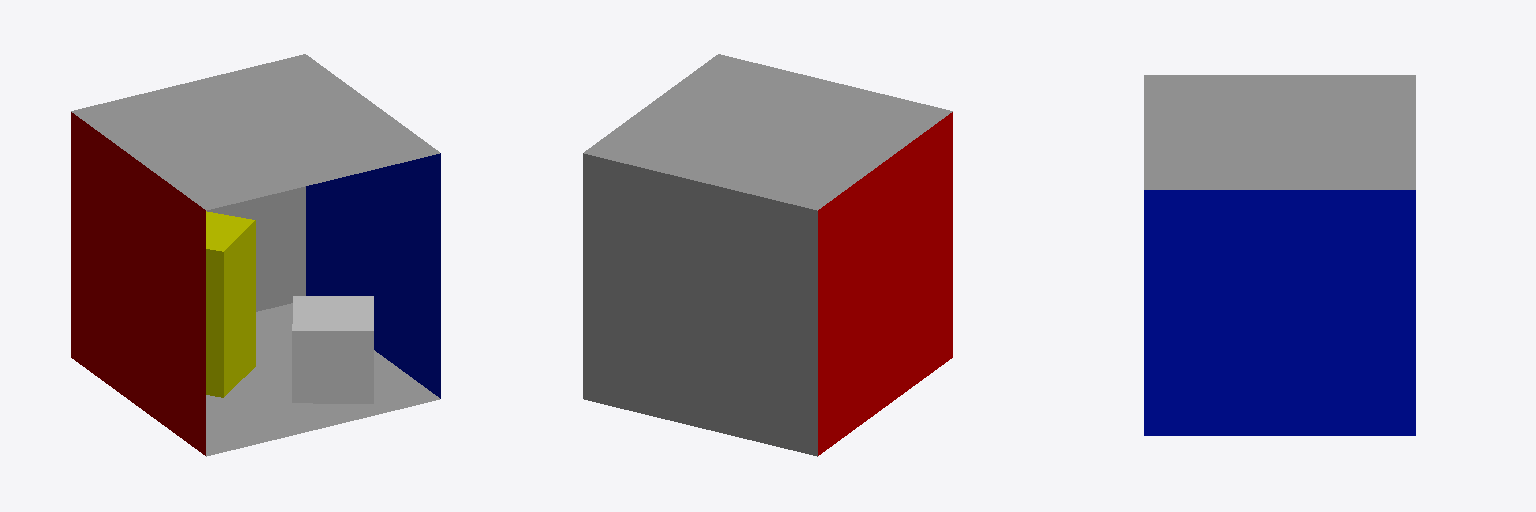
The model's file is cornell-boxes-red-blue-box-yellow.obj.
3 views of the same model, side by side, from view 1: azimuth 30°, elevation 25°; view 2: azimuth 150°, elevation 25°; view 3: azimuth 270°, elevation 25° (orthographic).
Visible parts, largest first — view 1: Walls, Box_small, Box_tall; view 2: Walls; view 3: Walls.
Boxes of the visible parts, <box> form: Walls: <box>71,54,440,456</box>; Box_small: <box>292,296,373,403</box>; Box_tall: <box>206,211,255,397</box>; Walls: <box>583,54,952,456</box>; Walls: <box>1144,75,1415,435</box>.
Size of the model in its own units: 2 by 2.01 by 2.